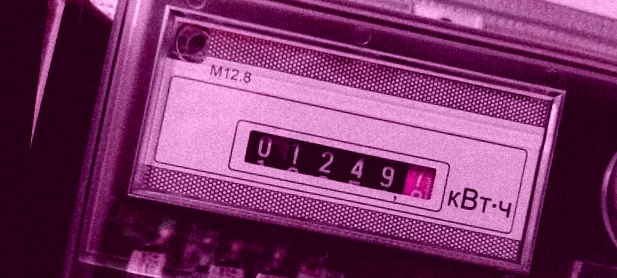0: (255, 131, 275, 159)
1: (286, 138, 303, 166)
2: (315, 148, 335, 176)
4: (348, 153, 367, 180)
7: (411, 162, 429, 189)
9: (376, 161, 396, 189)
screen: (224, 116, 455, 216)
